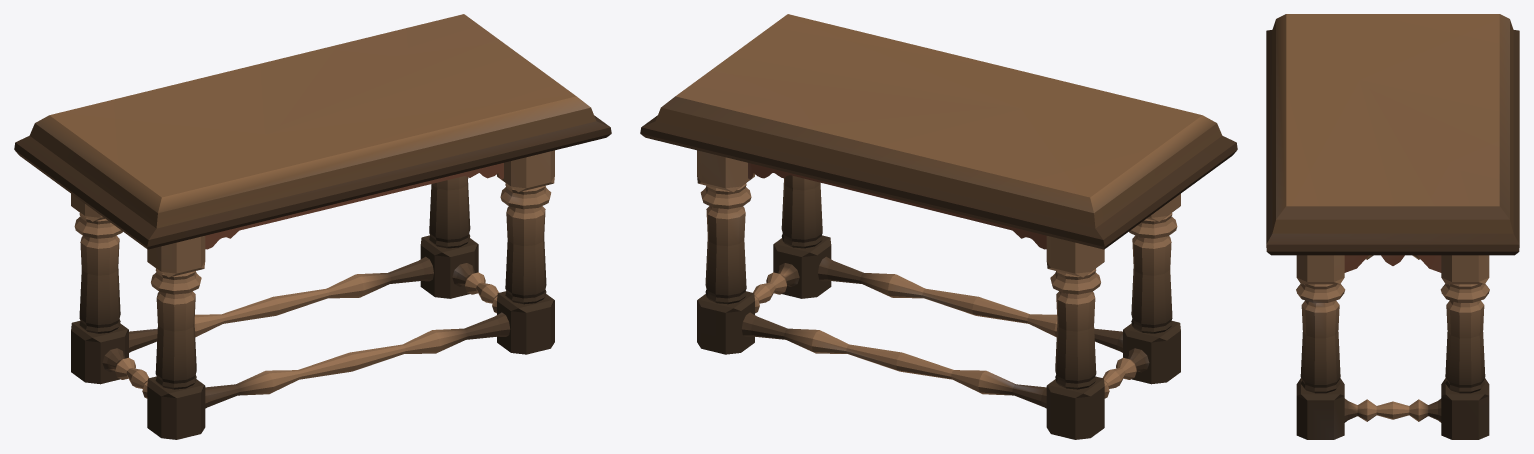
Rendered from mesa_misc_LoPo.fbx.
3 renders of one model, left to right at view 1: azimuth 30°, elevation 25°; view 2: azimuth 150°, elevation 25°; view 3: azimuth 270°, elevation 25°, orthographic. The views are drawn at different scales.
Visible parts, largest first — view 1: mesa_misc_LoPo; view 2: mesa_misc_LoPo; view 3: mesa_misc_LoPo.
Part boxes in pixels (x1=…): mesa_misc_LoPo: x1=14, y1=14, x2=611, y2=439; mesa_misc_LoPo: x1=640, y1=14, x2=1237, y2=439; mesa_misc_LoPo: x1=1266, y1=14, x2=1519, y2=439.
Size of the model in its own units: 211 by 109 by 105.
